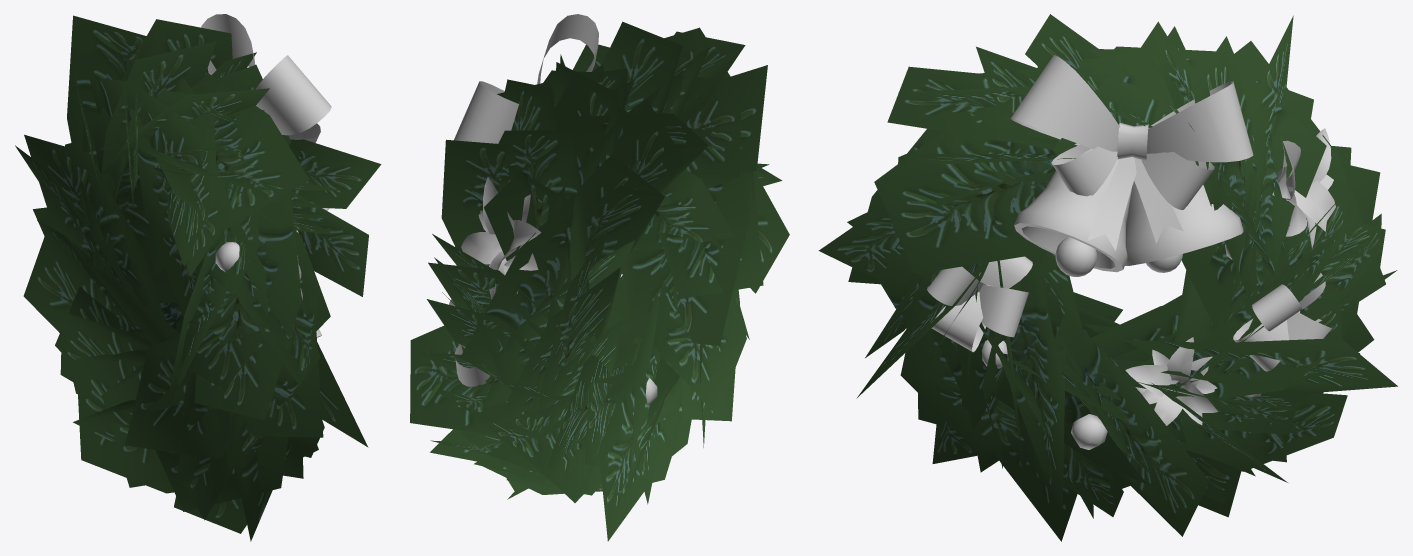
Rendered from SM_ChristmasWreath.fbx.
3 views of the same model, side by side, from view 1: azimuth 30°, elevation 25°; view 2: azimuth 150°, elevation 25°; view 3: azimuth 270°, elevation 25° (orthographic). The views are drawn at different scales.
Parts seen in each view (by area): view 1: SM_ChristmasWreath_LOD0; view 2: SM_ChristmasWreath_LOD0; view 3: SM_ChristmasWreath_LOD0.
Boxes of the visible parts, <box> form: SM_ChristmasWreath_LOD0: <box>15,14,381,541</box>; SM_ChristmasWreath_LOD0: <box>410,14,789,541</box>; SM_ChristmasWreath_LOD0: <box>818,14,1397,541</box>.
Size of the model in its own units: 104 by 207 by 215.
